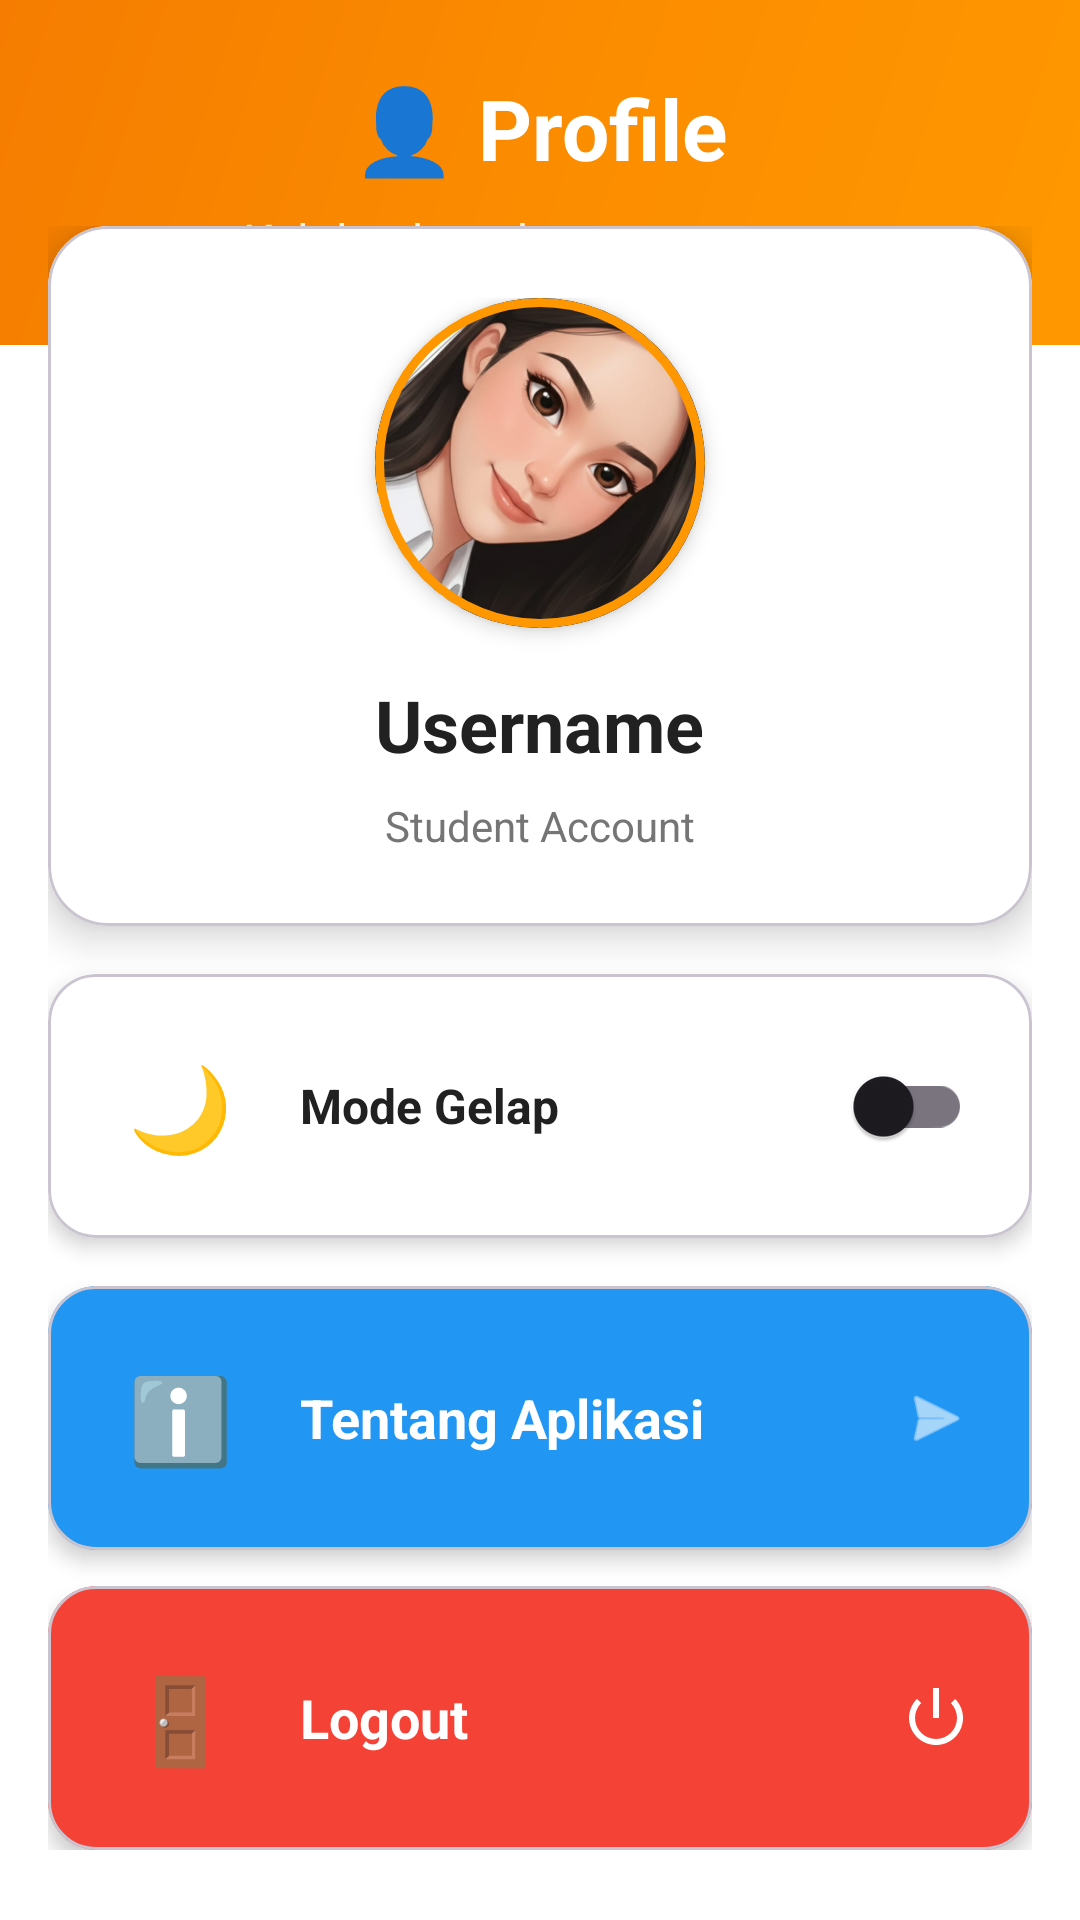

Screen size 1080×1920. Icon name, then its box in pixels as (x1, y1, x2, y2):
lock power off: (909, 1688, 963, 1745)
Profil Saya: (375, 298, 705, 628)
send: (914, 1396, 960, 1441)
